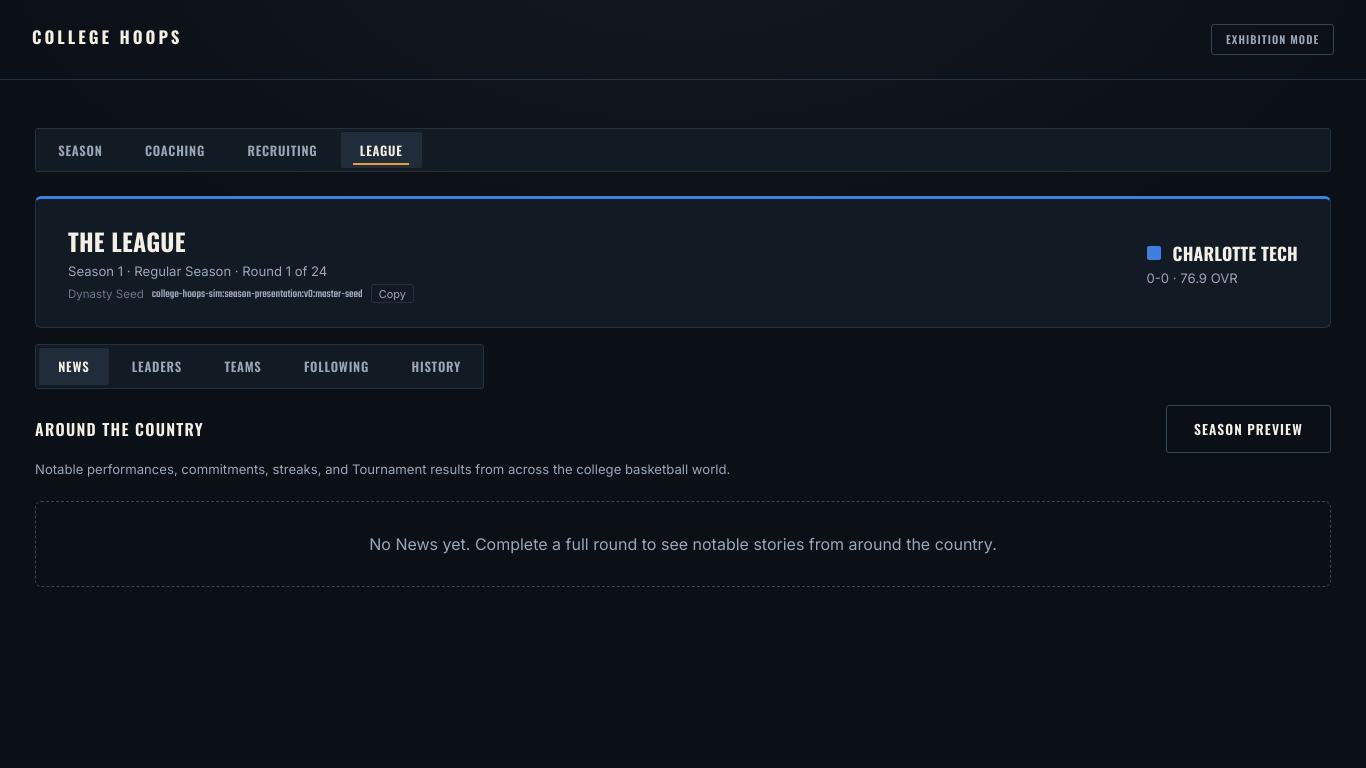
Test: Season Preview UI › opens the same destination from the League News header
The image size is (1366, 768).
Click the button "Season Preview" at (1248, 429), box [1166,405,1331,453]
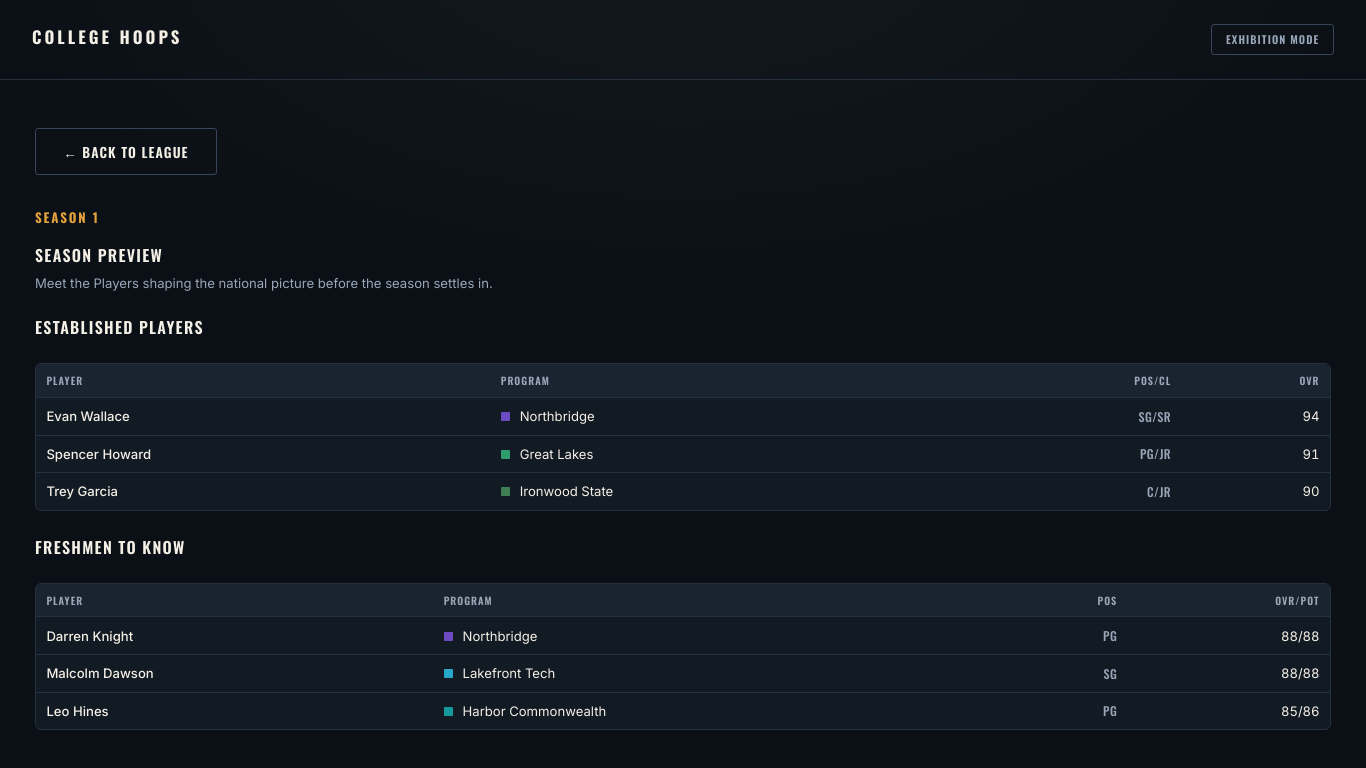
Expected: the heading "Season Preview" is shown, [35,243,163,267]
Expected: the button "← Back to League" is shown, [35,128,217,175]
